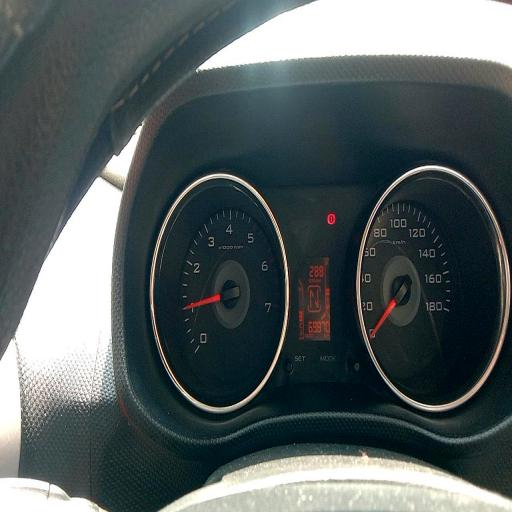brake_system_fault: (328, 212, 336, 226)
tachometer: (181, 205, 280, 367)
